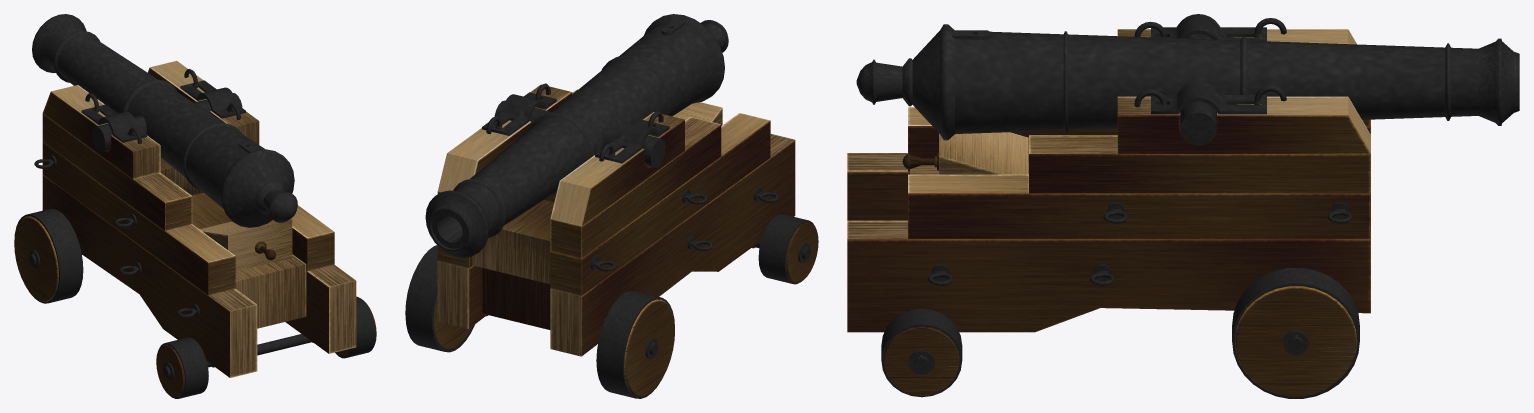
Rendered from cannon.fbx.
3 views of the same model, side by side, from view 1: azimuth 30°, elevation 25°; view 2: azimuth 150°, elevation 25°; view 3: azimuth 270°, elevation 25° (orthographic). The views are drawn at different scales.
Parts seen in each view (by area): view 1: Cube_012, Cube_001, Cube_003, Cube_002, Cube_005, Cube_000; view 2: Cube_012, Cube_001, Cube_003, Cube_004, Cube_005, Cube_002; view 3: Cube_012, Cube_001, Cube_004, Cube_000, Cube_002.
Part boxes in pixels (bbox=[...]): Cube_012: bbox=[29, 61, 356, 377]; Cube_001: bbox=[32, 14, 297, 227]; Cube_003: bbox=[14, 208, 83, 303]; Cube_002: bbox=[200, 219, 292, 271]; Cube_005: bbox=[156, 337, 208, 398]; Cube_000: bbox=[335, 296, 376, 358]; Cube_012: bbox=[437, 83, 810, 356]; Cube_001: bbox=[425, 14, 728, 257]; Cube_003: bbox=[596, 290, 674, 398]; Cube_004: bbox=[405, 245, 474, 352]; Cube_005: bbox=[758, 214, 818, 284]; Cube_002: bbox=[672, 102, 722, 125]; Cube_012: bbox=[847, 14, 1370, 372]; Cube_001: bbox=[856, 24, 1519, 145]; Cube_004: bbox=[1232, 268, 1359, 398]; Cube_000: bbox=[881, 308, 962, 397]; Cube_002: bbox=[902, 132, 1028, 174].
Bounding box in the file's own units: 121 × 124 × 249.
